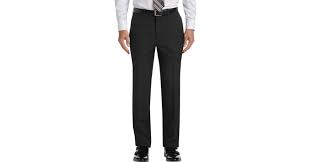F_belt: (129, 4, 184, 19)
F_dress pants: (126, 13, 189, 154)
